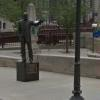Statue: (11, 3, 44, 71)
